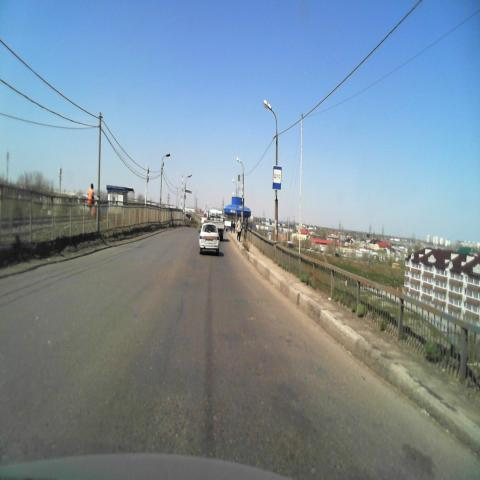7_12: (272, 165, 282, 190)
